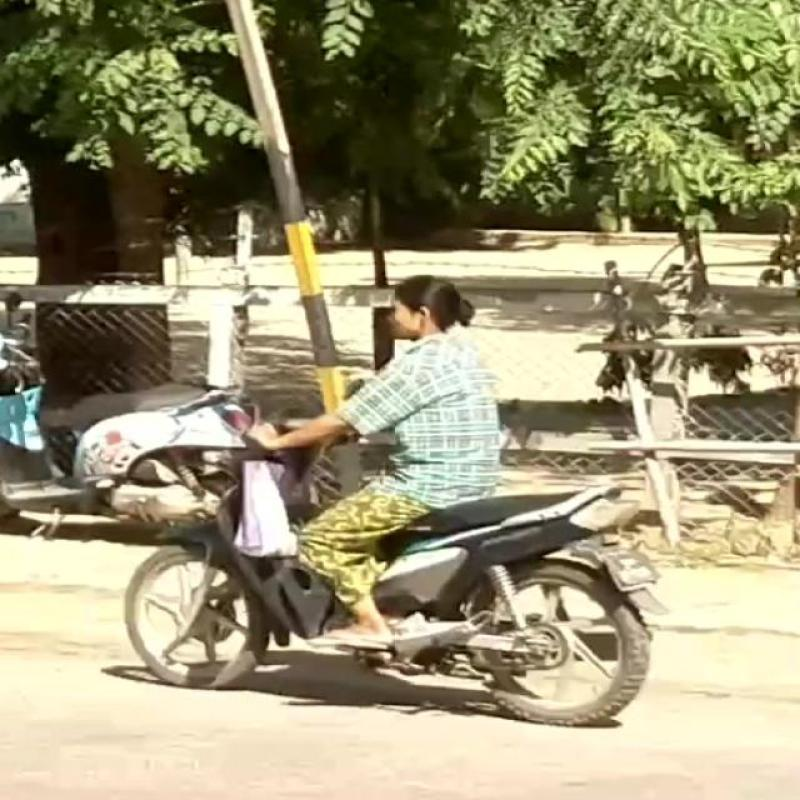nohelmet: (347, 262, 476, 344)
